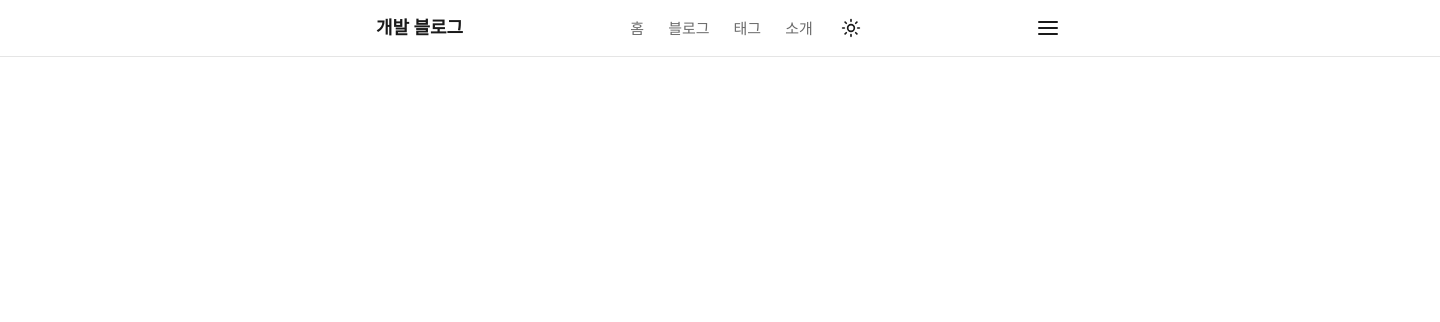
Test case: Navigation › hamburger menu › closes mobile menu on second hamburger click
The image size is (1440, 322).
Step 1. Click the button with test id "hamburger-button" → x=1048, y=28, box [1032, 12, 1064, 44]
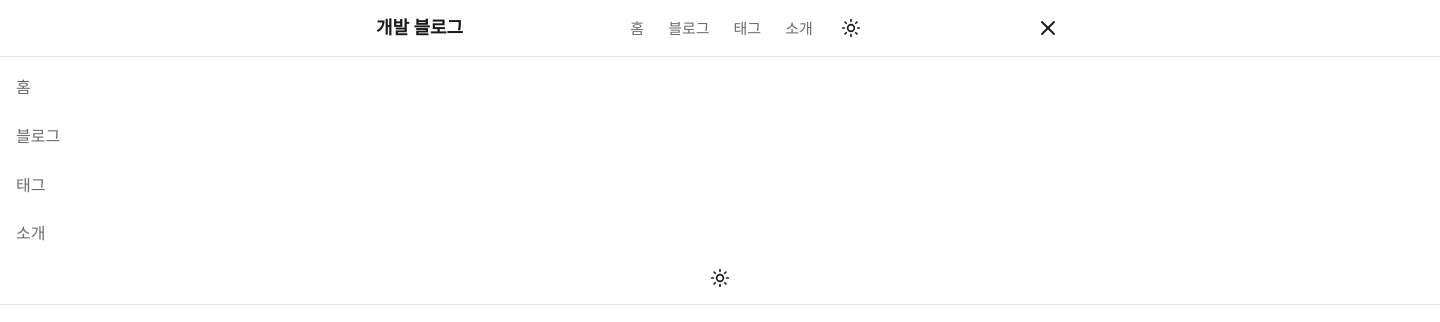
Step 2. Click the button with test id "hamburger-button" → x=1048, y=28, box [1032, 12, 1064, 44]
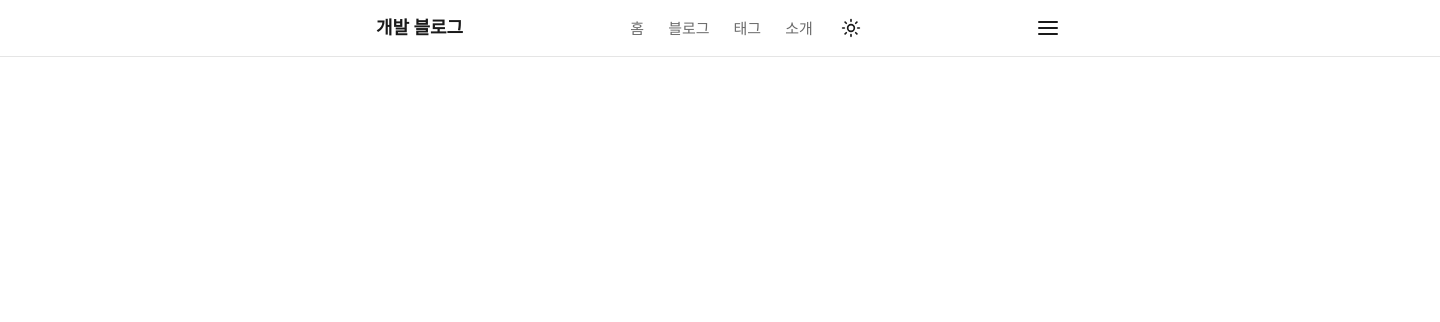
Now the element with test id "mobile-menu" is gone
